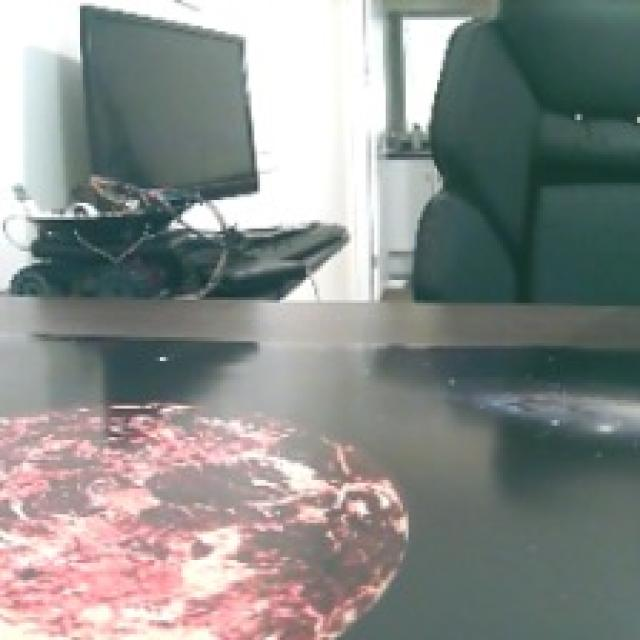Galaxy: (465, 374, 640, 445)
Sun: (0, 400, 409, 640)
